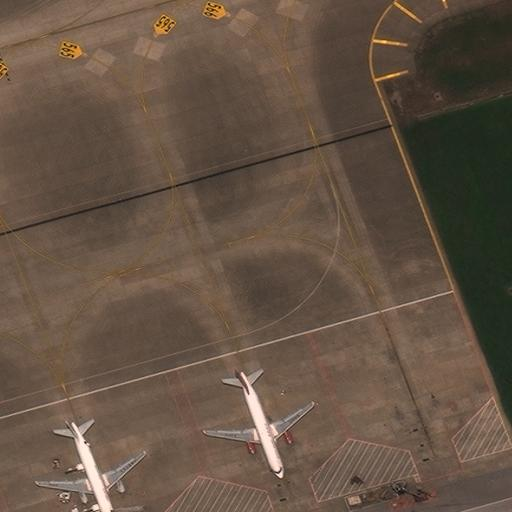Medium Civil Transport: (204, 371, 314, 477), (35, 420, 146, 511)
